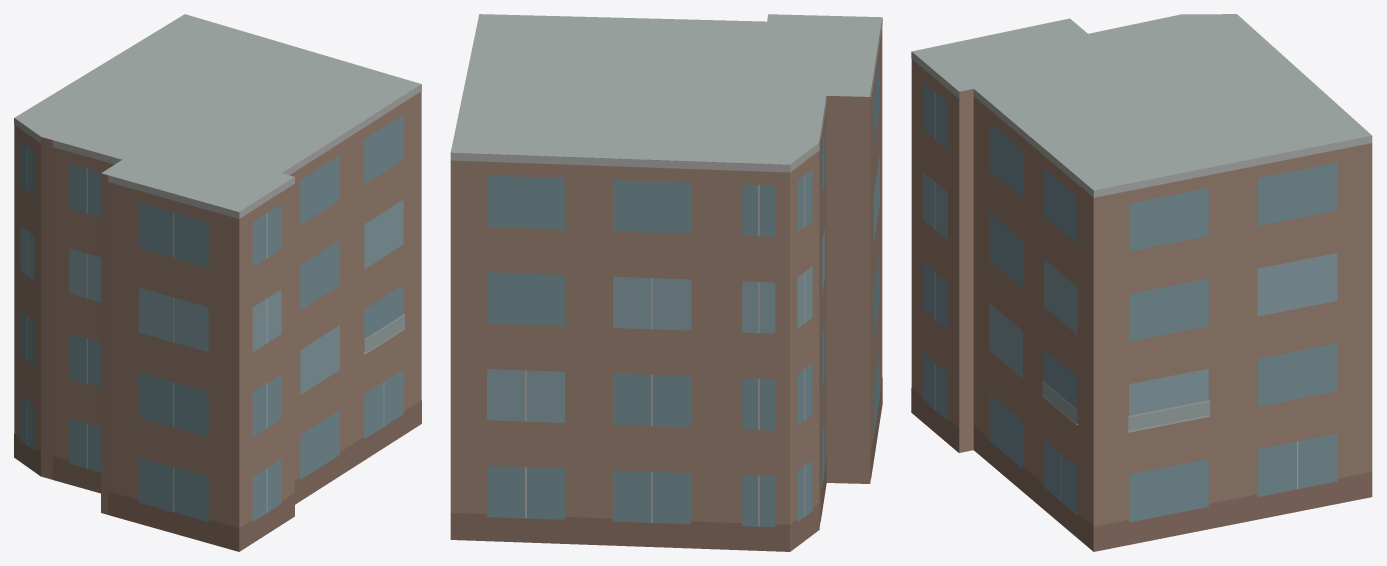
File: survey-upis-33008929.glb
3 views of the same model, side by side, from view 1: azimuth 30°, elevation 25°; view 2: azimuth 150°, elevation 25°; view 3: azimuth 270°, elevation 25° (orthographic). The views are drawn at different scales.
Parts seen in each view (by area): view 1: survey-upis-33008929.tmp; view 2: survey-upis-33008929.tmp; view 3: survey-upis-33008929.tmp.
Boxes of the visible parts, x1,y1,x2,y2 form: survey-upis-33008929.tmp: (14,14,421,551); survey-upis-33008929.tmp: (450,14,882,551); survey-upis-33008929.tmp: (911,14,1372,551).
Size of the model in its own units: 12.69 by 12.1 by 13.99.
